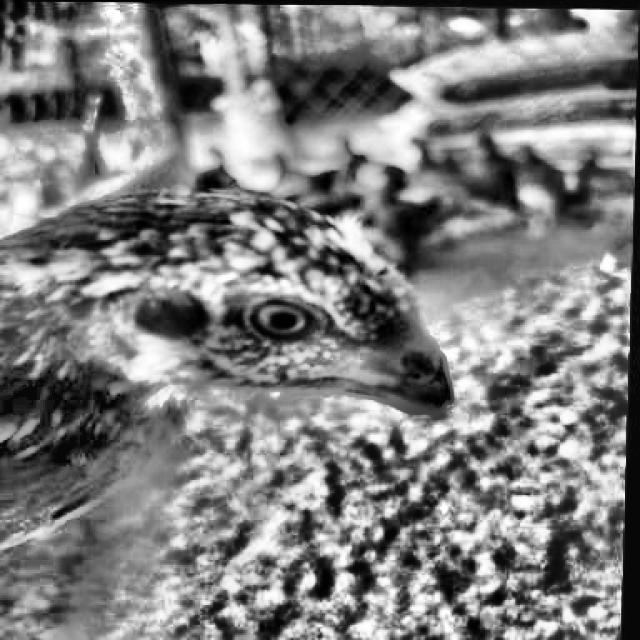Healthy: (237, 290, 330, 353)
